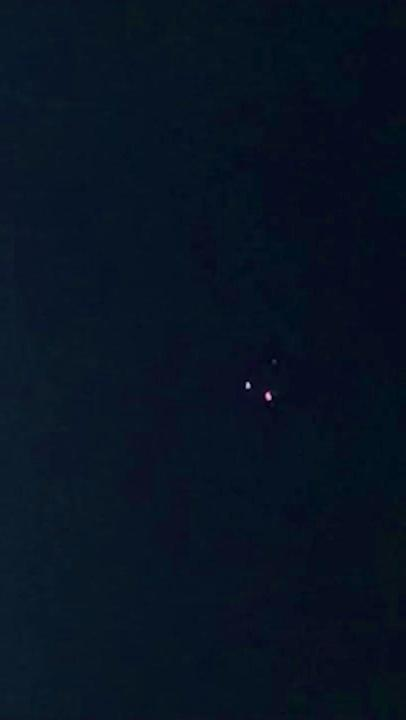Plane: (236, 358, 292, 411)
